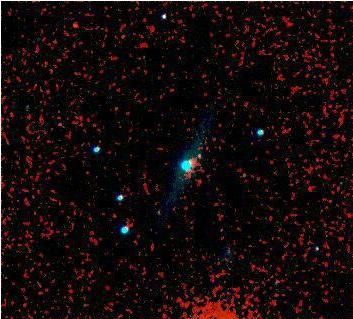star: (60, 10, 90, 40)
